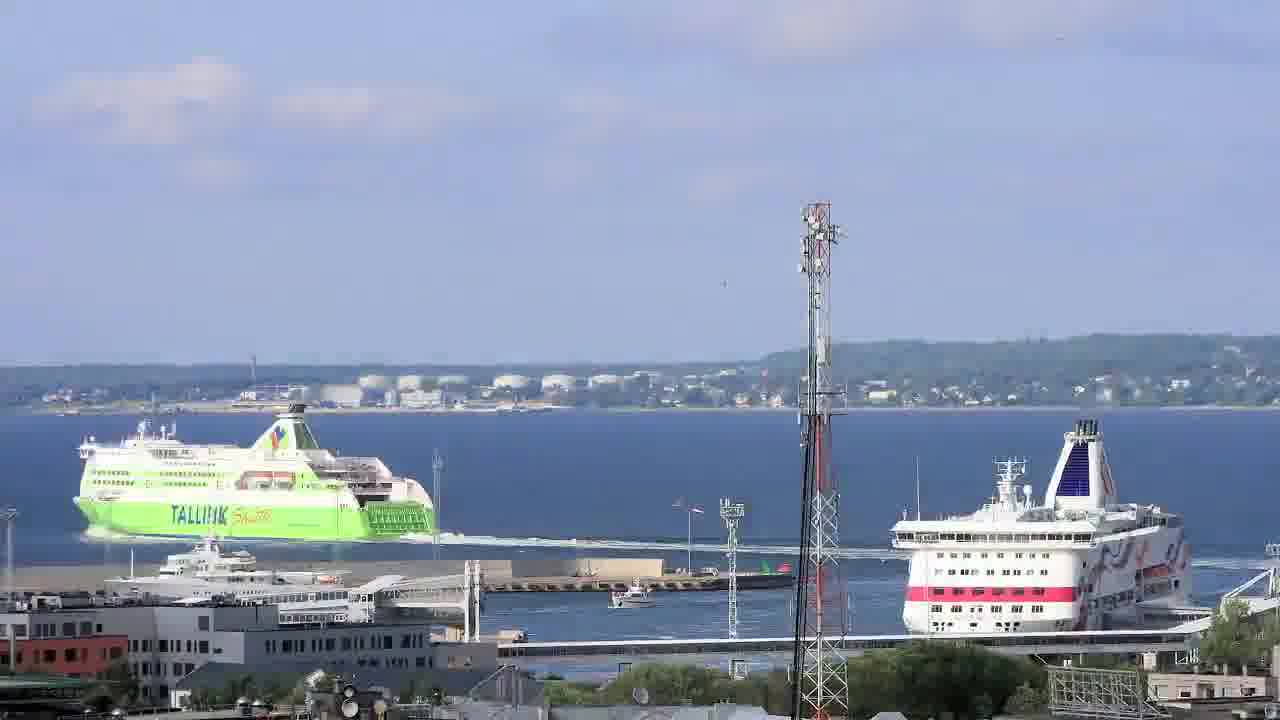type-0: (585, 571, 682, 615)
type-3: (868, 415, 1225, 638), (66, 394, 454, 554), (84, 511, 353, 609)
